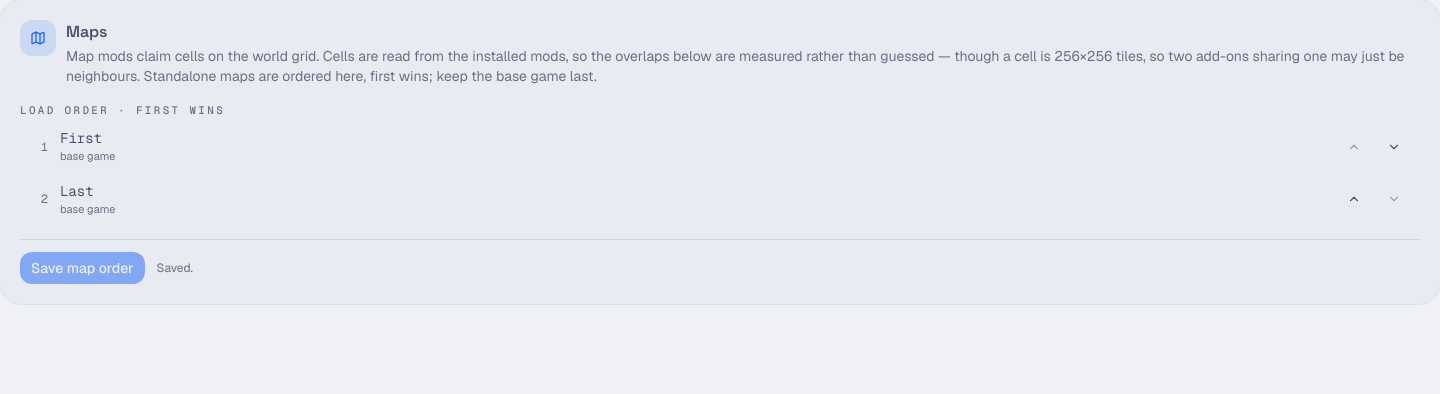
Scenario: sends the PZ map list INI revision
Click the 1st button titled "Lower priority" at (1394, 147), box [1376,133,1412,161]
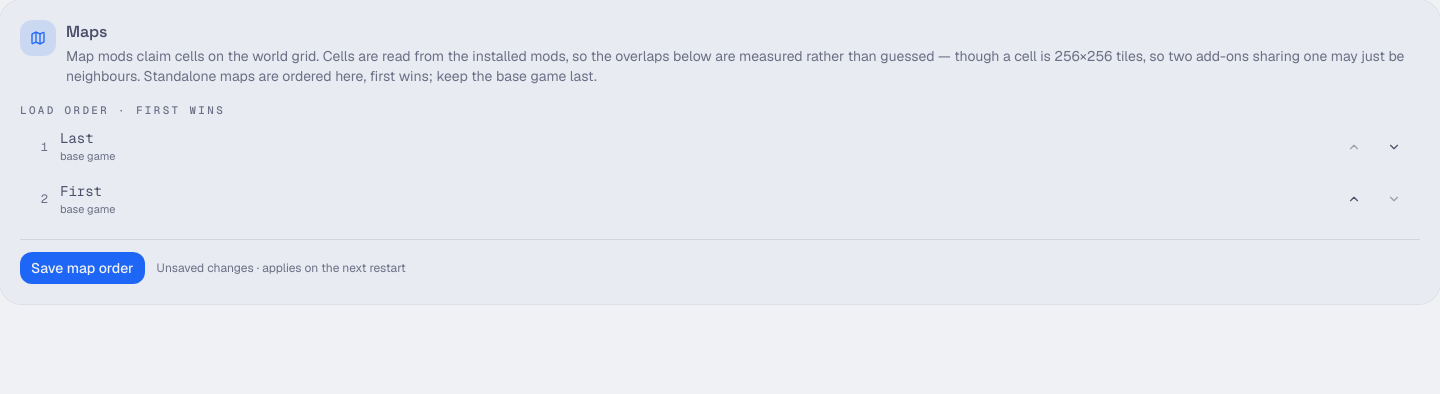
Click the button "Save map order" at (82, 268), box [20,252,145,284]
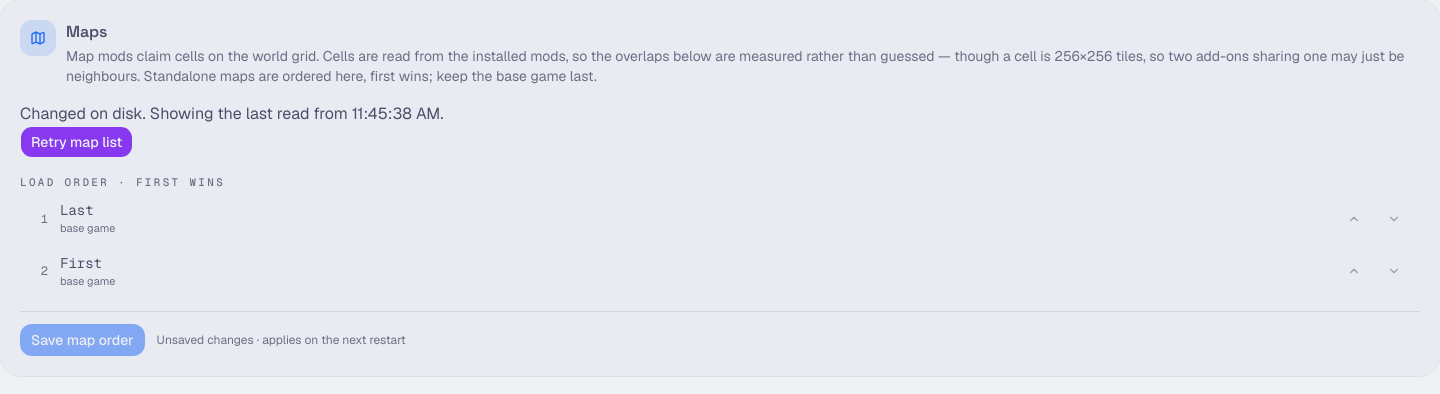
Expected: the message "Changed on disk. Showing the last read from 11:45:38 AM. Retry map list" is shown, [20,103,444,158]
